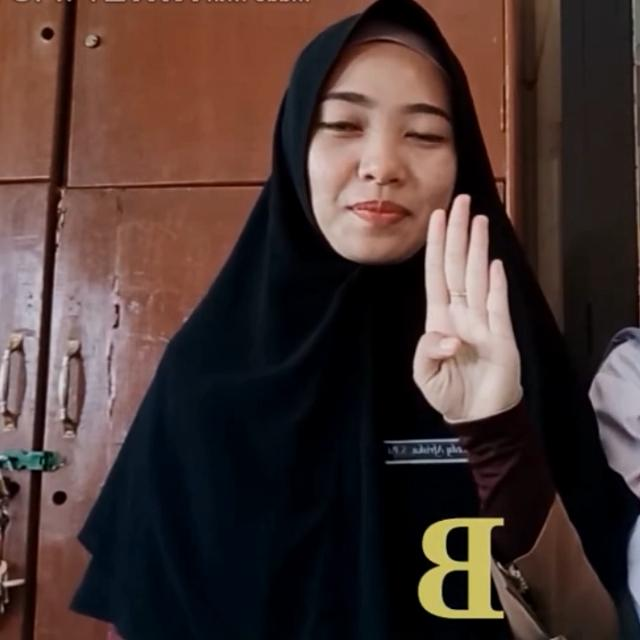B: (411, 192, 524, 422)
